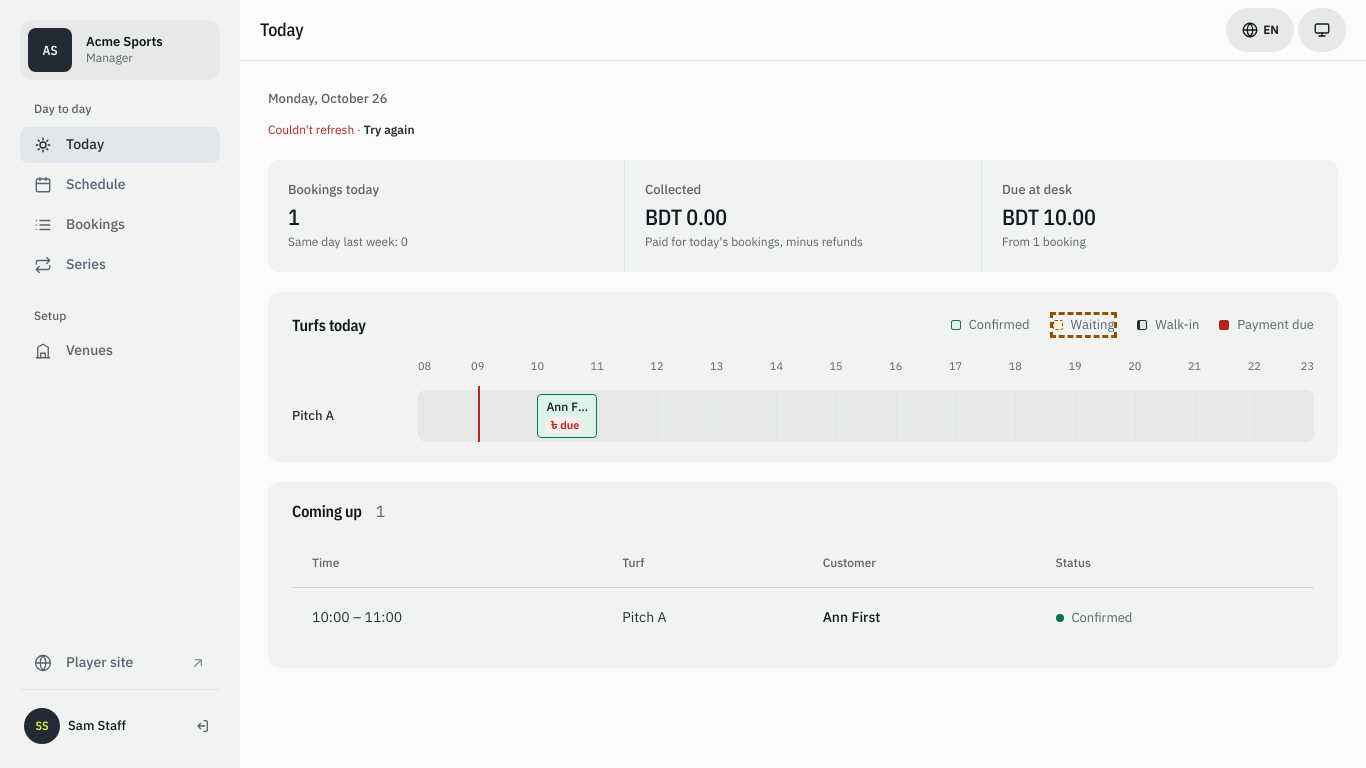
it: Today page › Today keeps its data and offers retry when a refresh fails
The width and height of the screenshot is (1366, 768).
Expected: the text "Couldn't refresh" is shown, [268,122,354,137]
Expected: the link "Ann First" is shown, [823,608,880,626]
Click the button "Try again": (389, 130) [364,121,414,140]
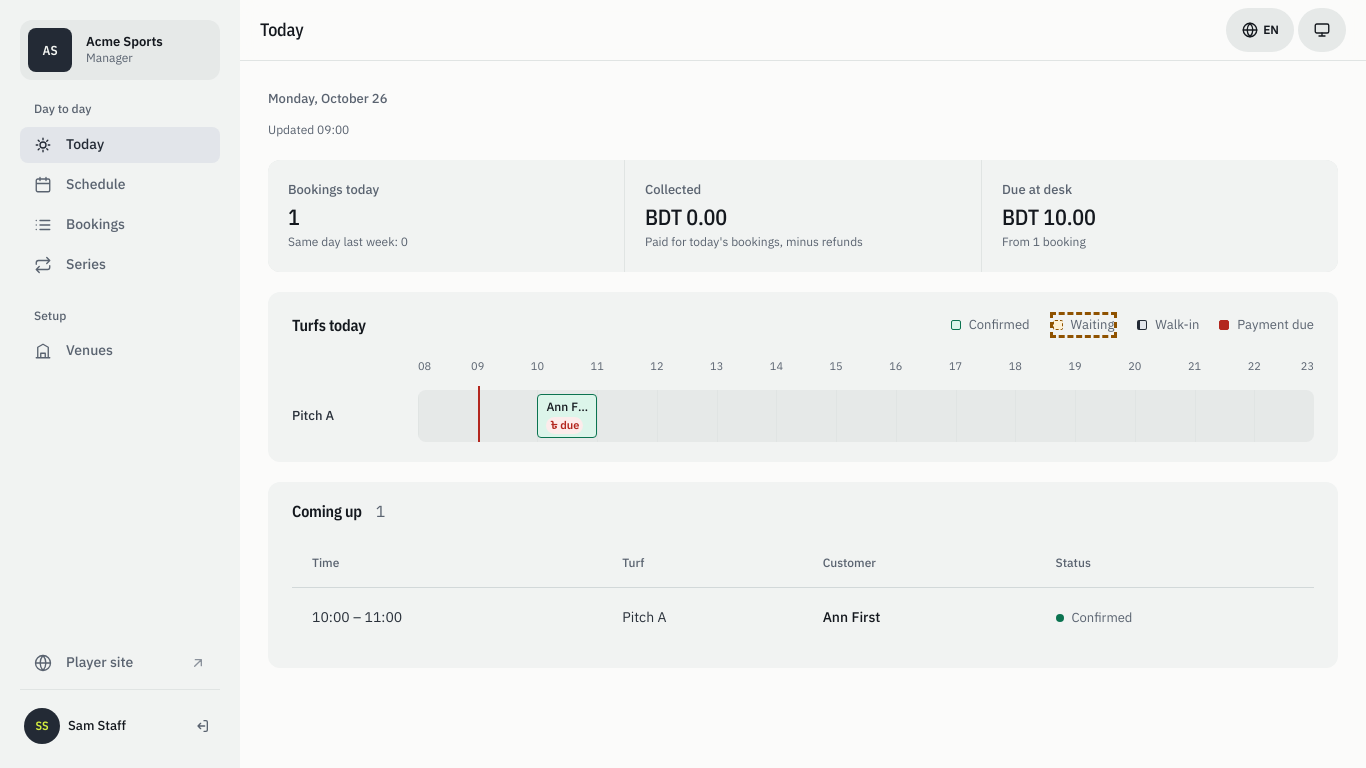
Expected: the text "Couldn't refresh" is gone
Expected: the text "Updated 09:00" is shown, [268,122,349,137]
